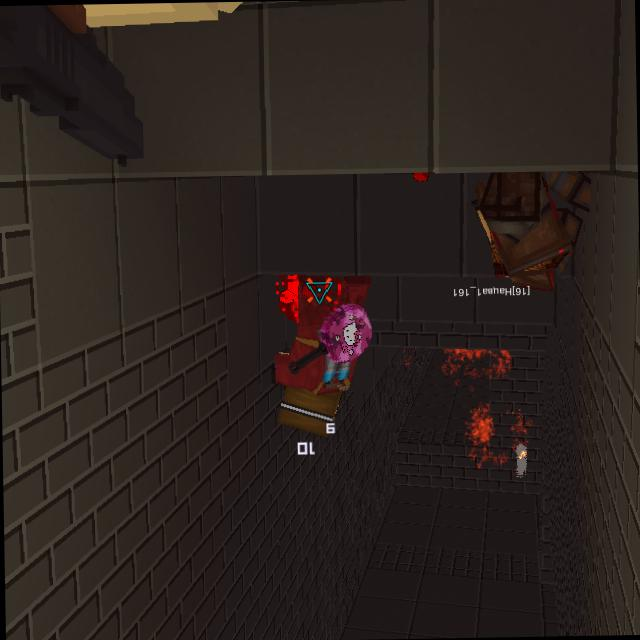enemy: (272, 272, 374, 442)
